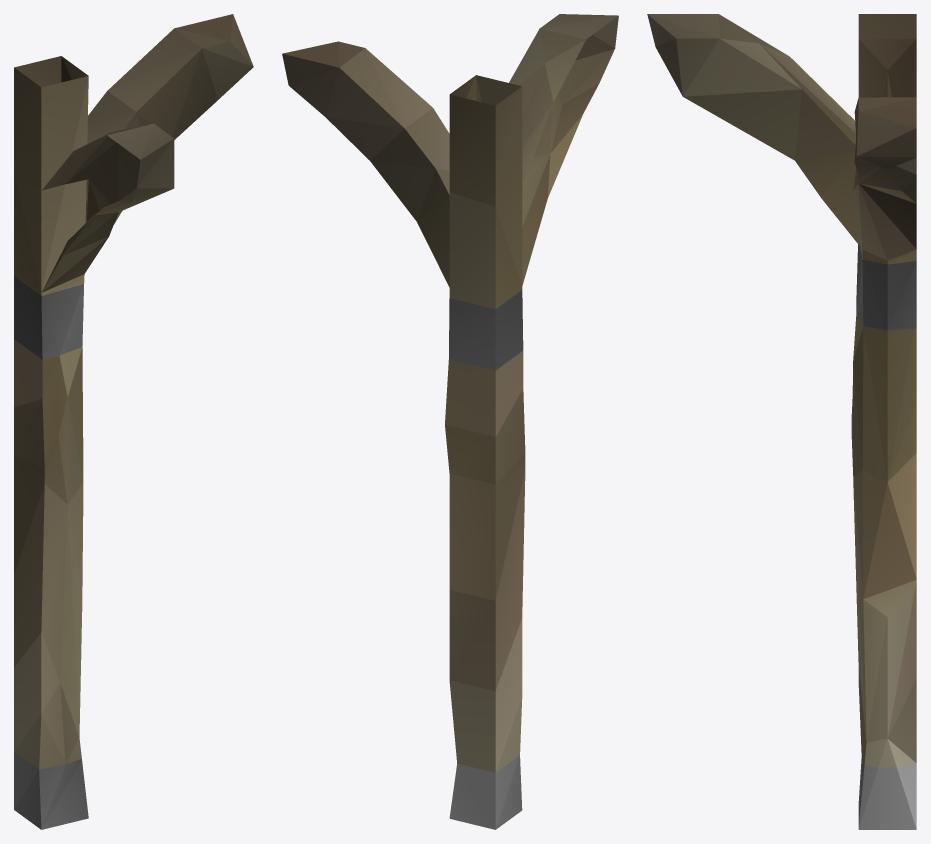
The model's file is Wall_UG-PostCorner.fbx.
3 views of the same model, side by side, from view 1: azimuth 30°, elevation 25°; view 2: azimuth 150°, elevation 25°; view 3: azimuth 270°, elevation 25° (orthographic). The views are drawn at different scales.
Visible parts, largest first — view 1: Wall_UG-PostCorner; view 2: Wall_UG-PostCorner; view 3: Wall_UG-PostCorner.
Boxes of the visible parts, x1,y1,x2,y2 form: Wall_UG-PostCorner: (14,14,253,829); Wall_UG-PostCorner: (282,14,618,829); Wall_UG-PostCorner: (647,14,916,829).
Bounding box in the file's own units: 116 × 375 × 116.
